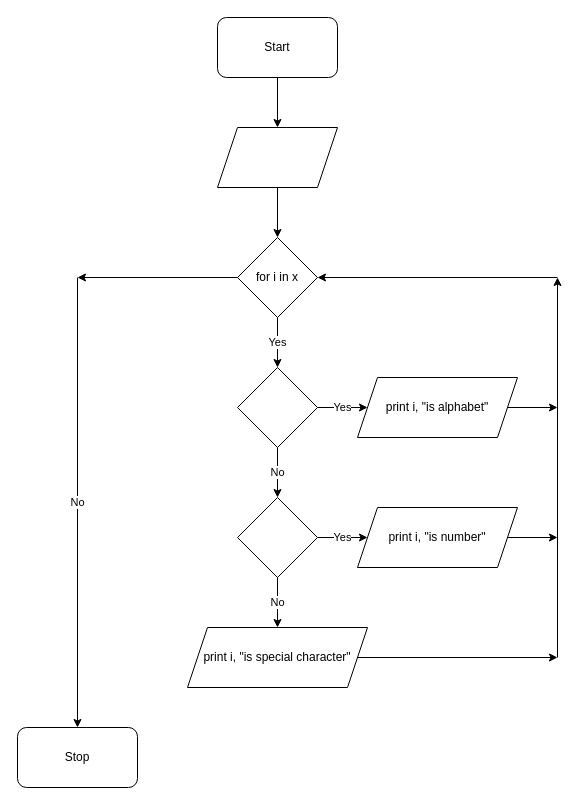
The diagram is 583 pixels wide and 805 high, and some of its shapes have lost their labels. The shapes that lost their labels are listed below. From the top down, each one's centre as x and y in pixels, then its label:
point (277, 157): input string x
point (277, 407): if i.isalpha()
point (277, 537): if i.isnumeric()
